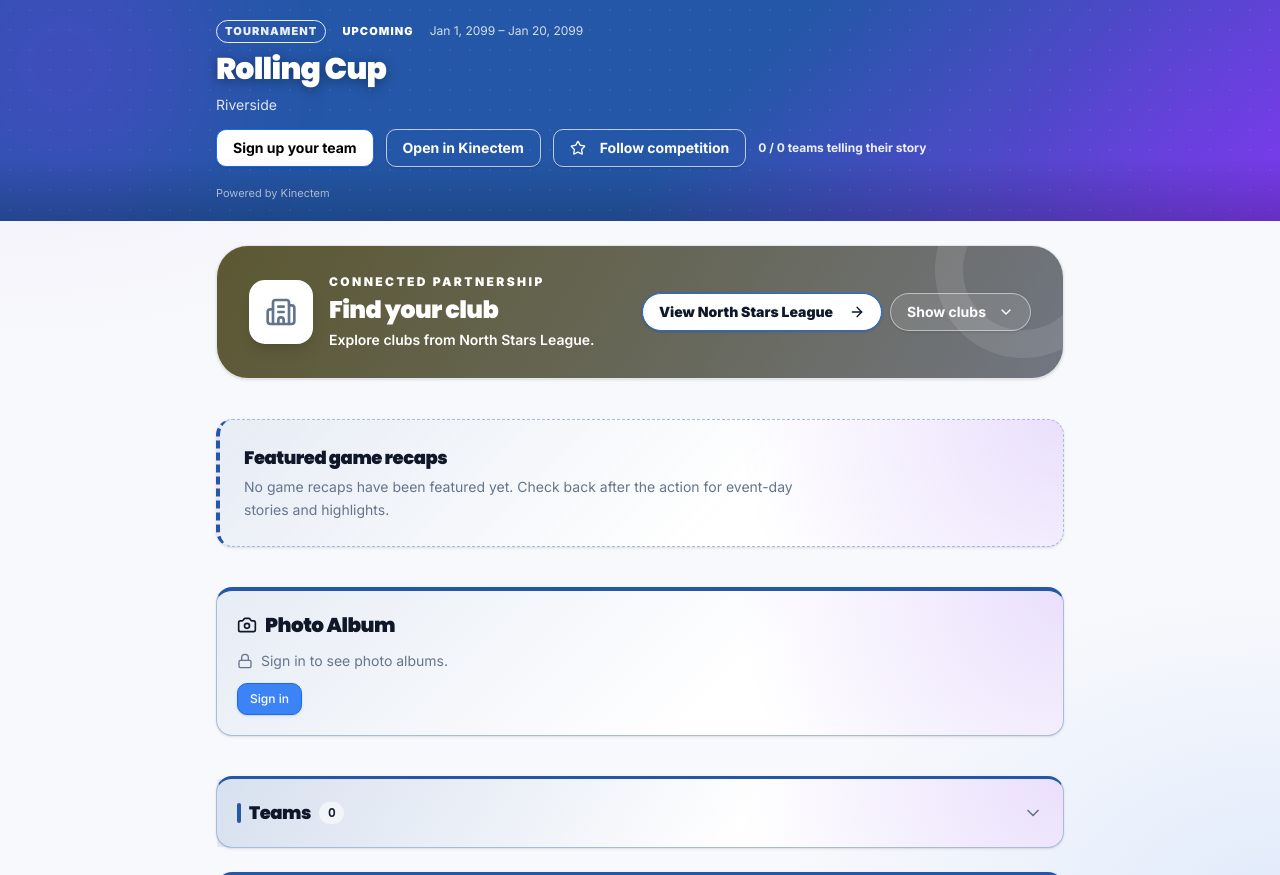
Test: competition partnership directory › distinguishes a directory outage from a successful empty search
This screenshot has width=1280, height=875.
Click the button "Show clubs" at (961, 312), box x1=890 y1=293 x2=1031 y2=331
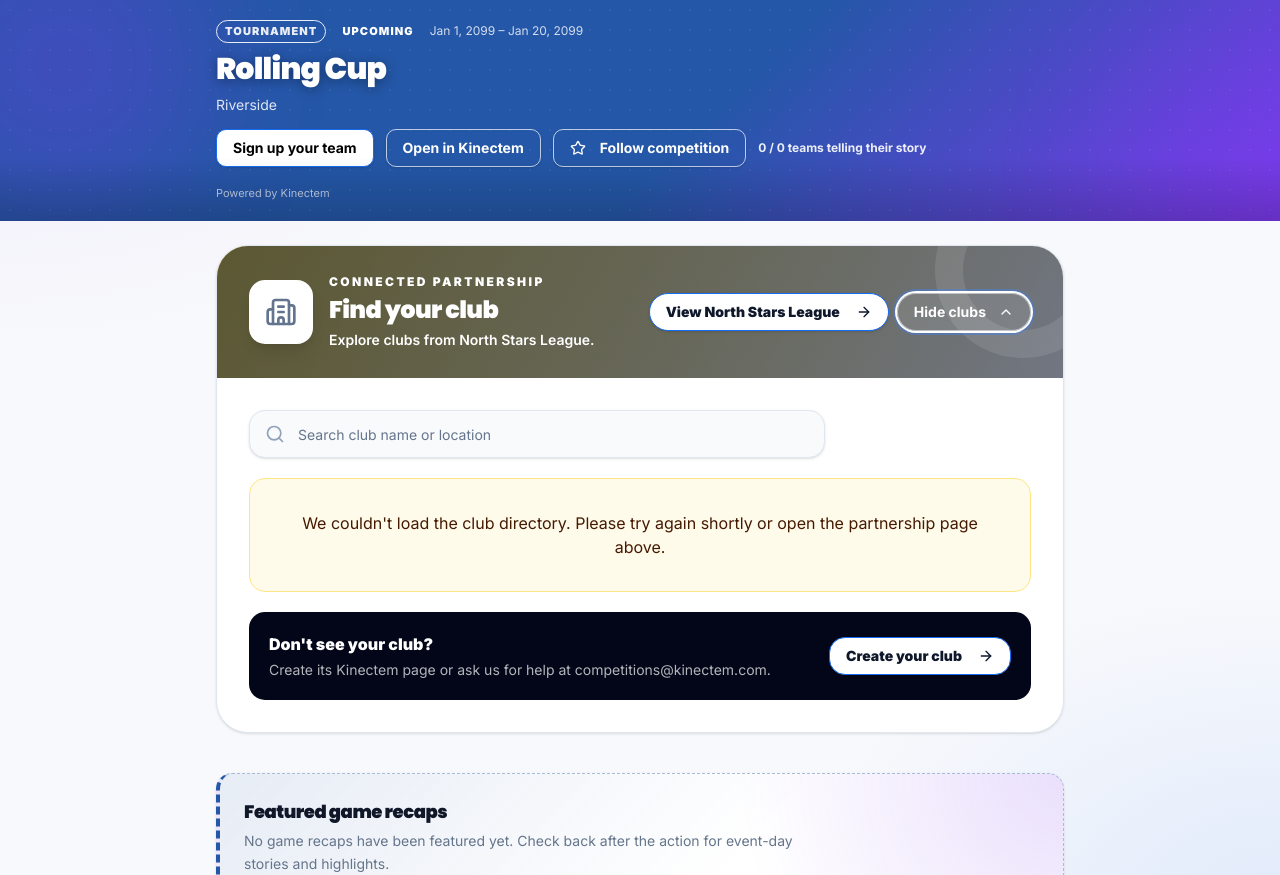
Result: the message shows "couldn't load the club directory" at x1=302 y1=513 x2=978 y2=557
